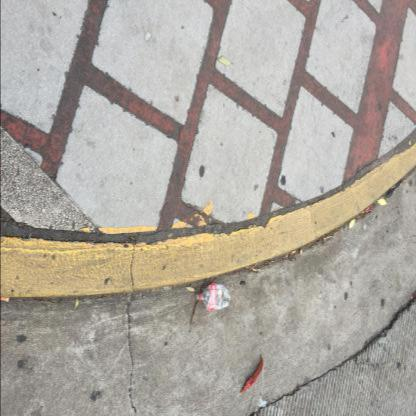Bottle cap: (194, 283, 230, 311)
Cigarette: (1, 297, 9, 301), (291, 252, 296, 254)
